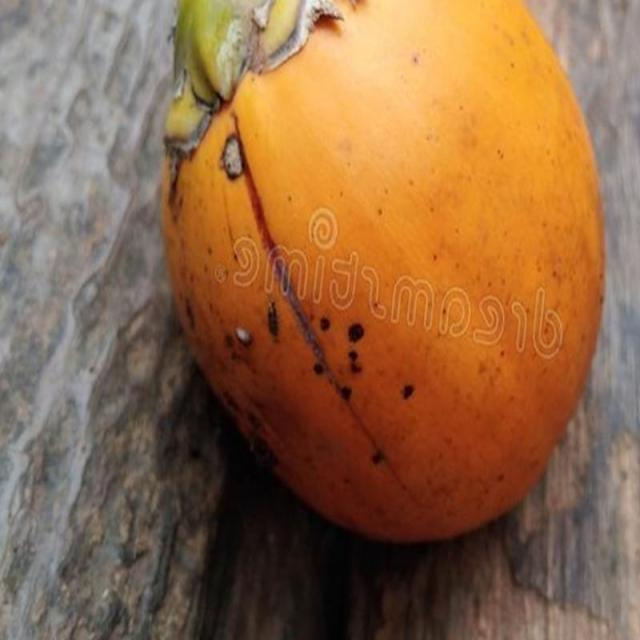good: (160, 0, 606, 548)
